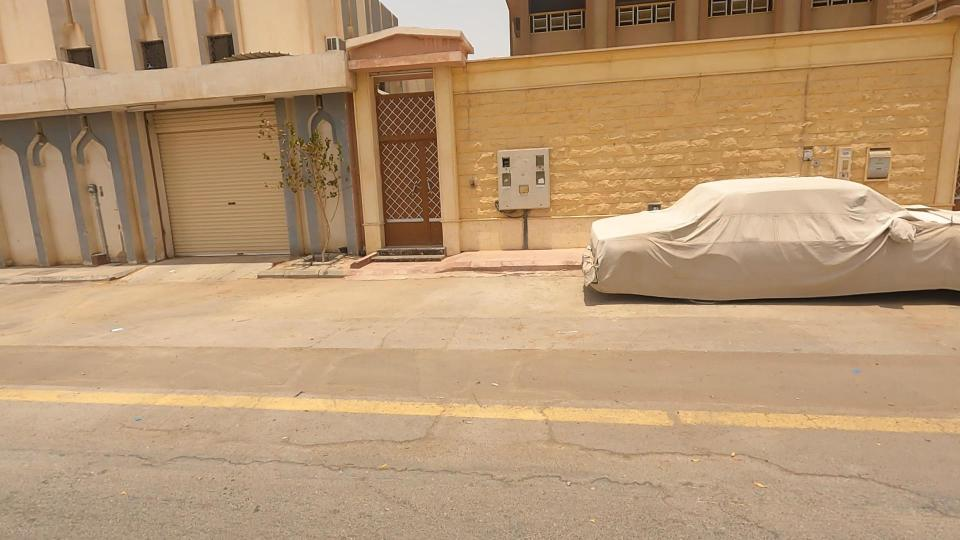POTHOLES: (269, 388, 529, 522), (471, 395, 716, 520), (87, 303, 148, 355)
